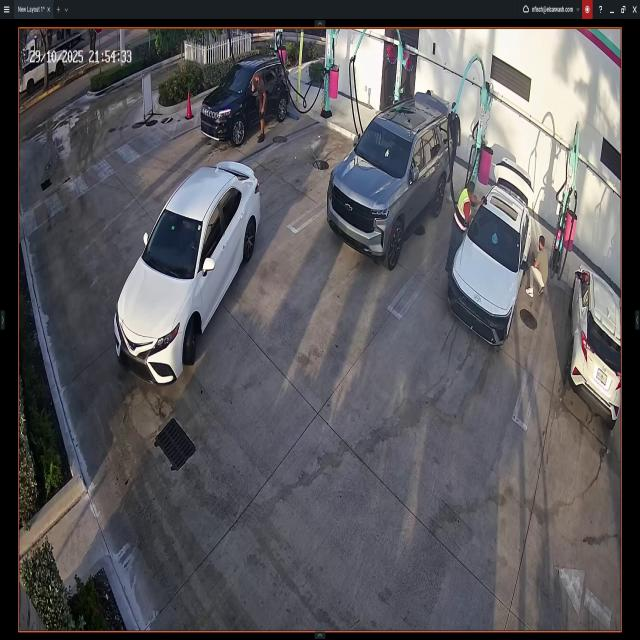Car: (113, 160, 260, 379), (323, 92, 452, 262), (450, 161, 535, 341), (568, 267, 620, 420), (201, 56, 287, 144)
